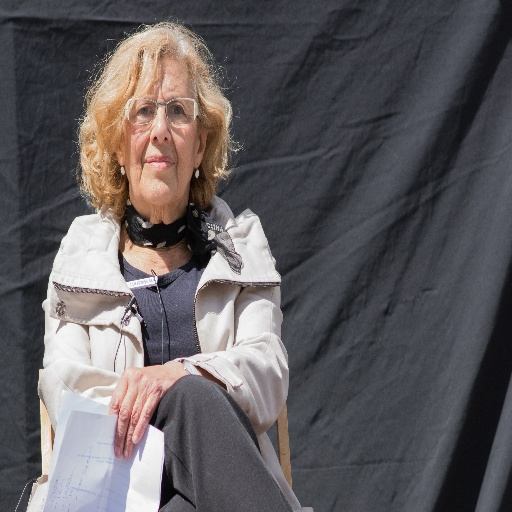hand: (96, 352, 188, 450)
